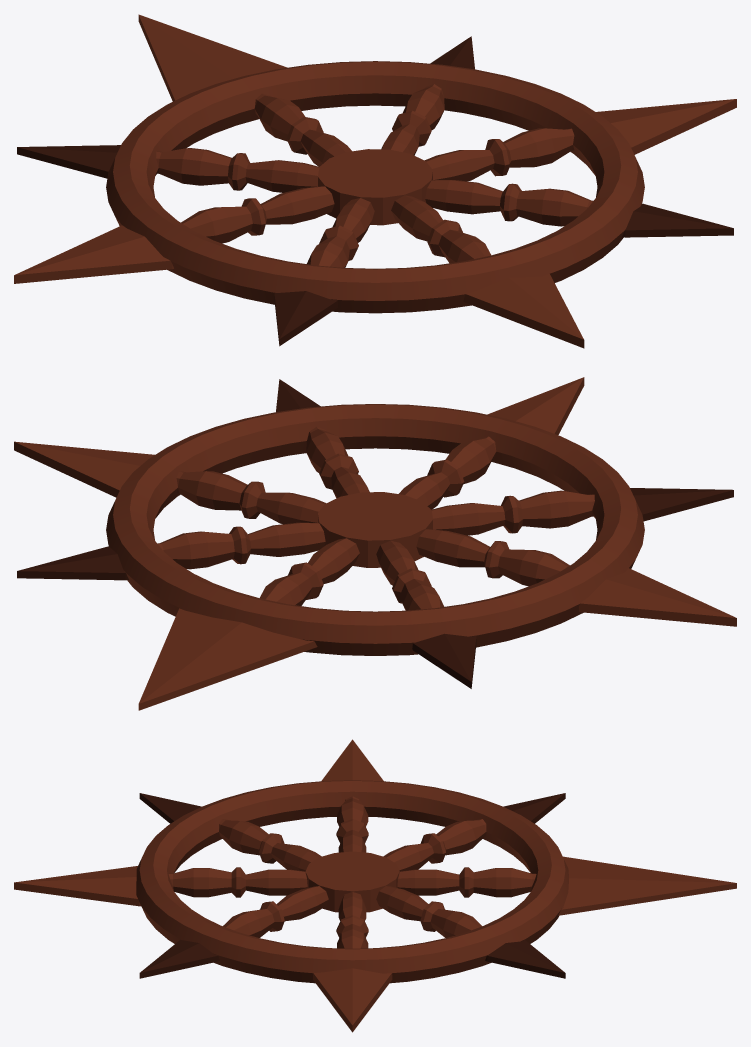
File: Rosa.fbx
3 renders of one model, top to bottom at view 1: azimuth 30°, elevation 25°; view 2: azimuth 150°, elevation 25°; view 3: azimuth 270°, elevation 25°, orthographic. The views are drawn at different scales.
Parts seen in each view (by area): view 1: Torus, Circle, Cube; view 2: Torus, Circle, Cube; view 3: Torus, Circle, Cube.
Part boxes in pixels (left/top/right/bottom): Torus: left=106, top=61, right=644, bottom=313; Circle: left=156, top=84, right=593, bottom=267; Cube: left=14, top=14, right=736, bottom=348; Torus: left=106, top=404, right=644, bottom=655; Circle: left=157, top=427, right=594, bottom=610; Cube: left=14, top=377, right=736, bottom=710; Torus: left=136, top=780, right=568, bottom=983; Circle: left=168, top=796, right=536, bottom=948; Cube: left=14, top=739, right=736, bottom=1032.
Bounding box in the file's own units: 880 × 50 × 940.
